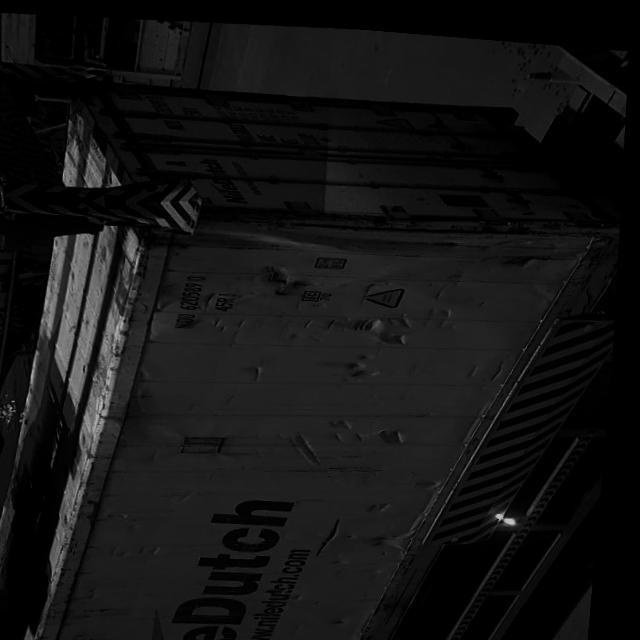rust: (124, 185, 324, 260)
